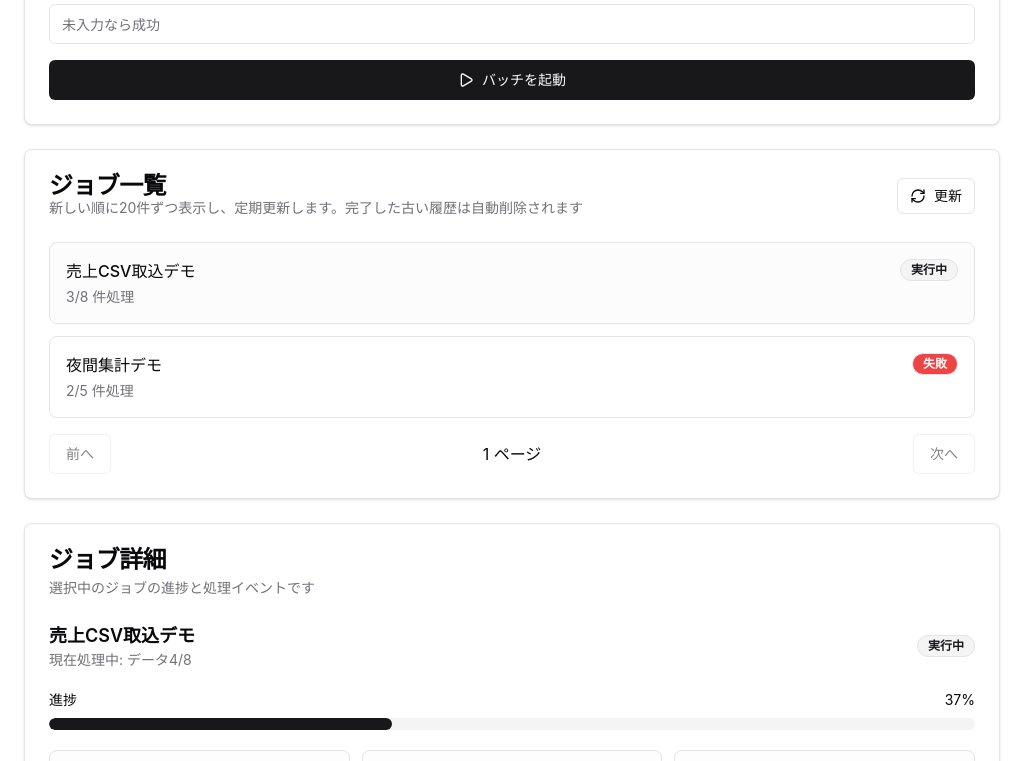
OnlineBatchDemoPage › 一覧から別ジョブを選択すると詳細を切り替える
(page scrolled)
Expected: the text "現在処理中: データ4/8" is shown, top-left (49, 650), bottom-right (195, 670)
What coordinates should you click on to do the following:
click the button "夜間集計デモ 2/5 件処理 失敗"
I would click on:
 (114, 365)
Its box is top-left (49, 336), bottom-right (975, 418).
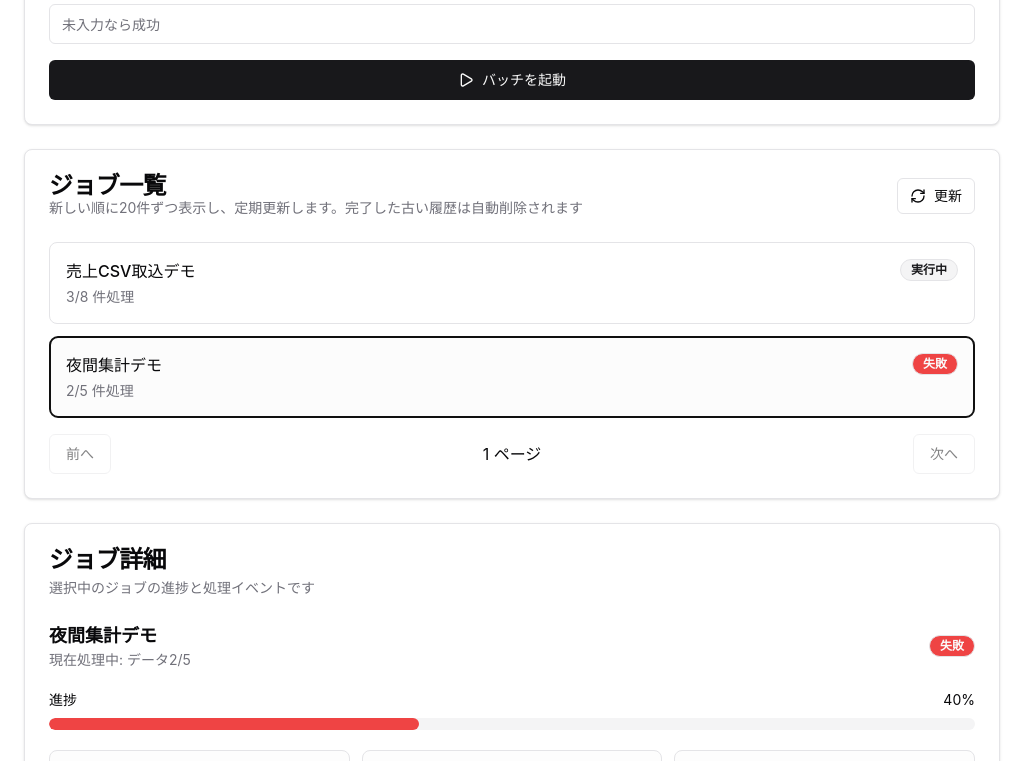
Expected: the text "夜間集計デモ" below "新しい順に20件ずつ表示し、定期更新します。完了した古い履歴は自動削除されます" is shown, top-left (66, 355), bottom-right (162, 375)
Now the text "現在処理中: データ2/5" is shown, box top-left (49, 650), bottom-right (191, 670)
Now the text "40%" is shown, box top-left (943, 690), bottom-right (975, 710)
